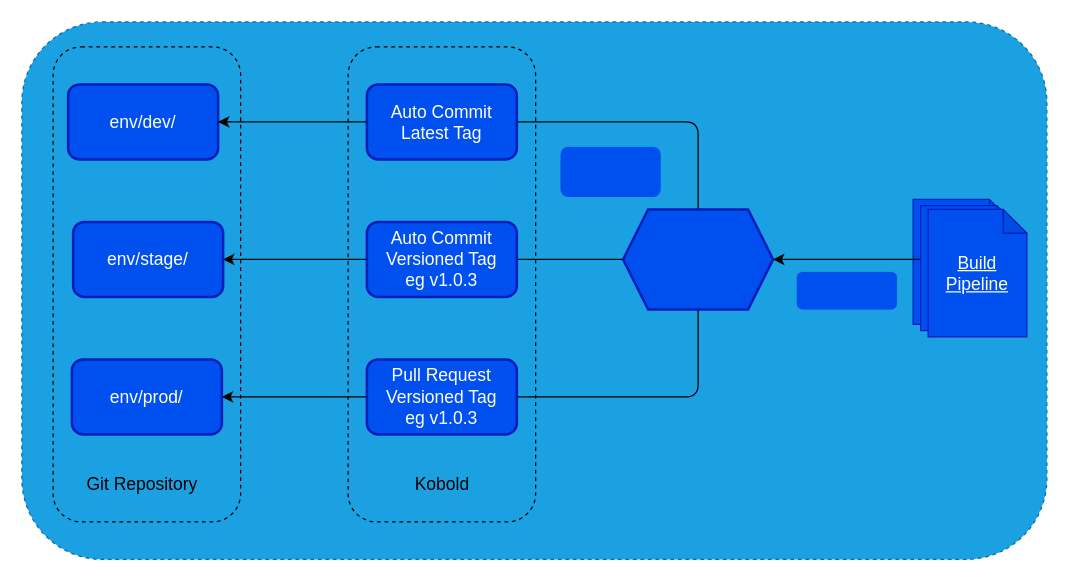
Some shapes in this 1069 by 581 pixel diagram are drawn without their labels. The centre of each missing label's shape, as x and y in pixels:
Container Registry: point (697, 259)
docker push: point (846, 290)
webhook events: point (610, 171)
